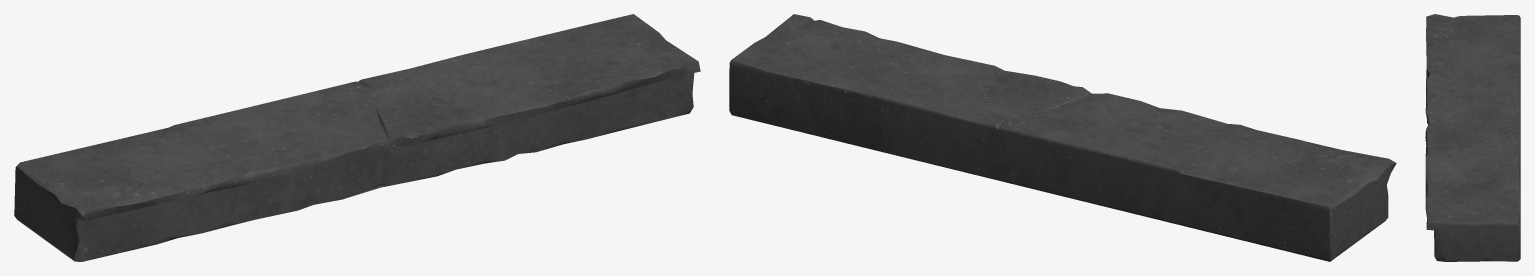
File: SM_Step3.fbx
3 views of the same model, side by side, from view 1: azimuth 30°, elevation 25°; view 2: azimuth 150°, elevation 25°; view 3: azimuth 270°, elevation 25° (orthographic). The views are drawn at different scales.
Visible parts, largest first — view 1: SM_Step3_LOD0; view 2: SM_Step3_LOD0; view 3: SM_Step3_LOD0.
Boxes of the visible parts, bbox=[...] form: SM_Step3_LOD0: bbox=[14, 14, 700, 261]; SM_Step3_LOD0: bbox=[729, 14, 1396, 261]; SM_Step3_LOD0: bbox=[1425, 14, 1520, 261].
Size of the model in its own units: 310 by 59.46 by 27.29.
Materials: 1 (1 with a texture image).
